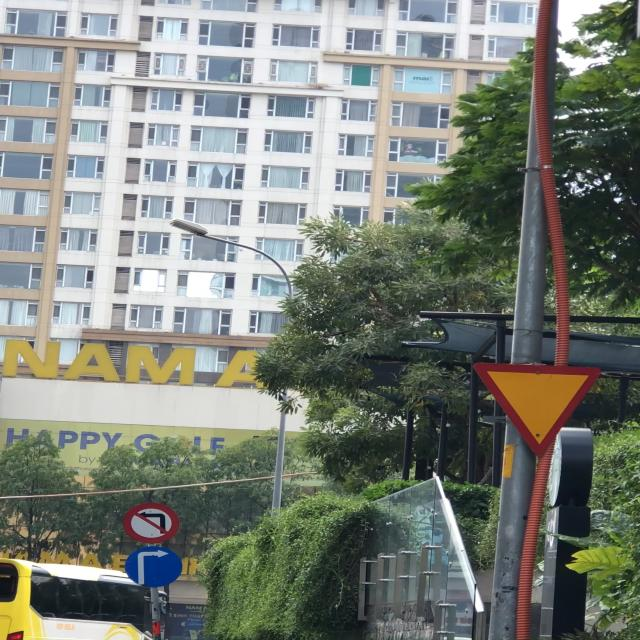Bien bao cam re trai: (116, 500, 182, 545)
Bien bao giao nhau voi duong uu tien: (468, 358, 602, 465)
Bien bao huong di phai theo: (124, 545, 191, 590)
